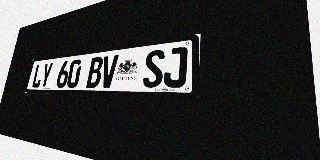0: (66, 59, 82, 88)
6: (55, 60, 71, 88)
B: (86, 56, 104, 88)
J: (163, 46, 188, 88)
L: (31, 63, 44, 88)
S: (142, 49, 165, 88)
V: (100, 55, 119, 88)
Y: (39, 62, 53, 88)
